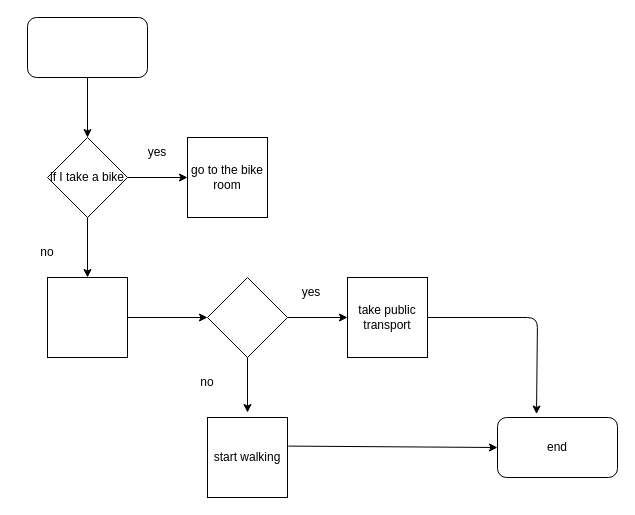
Image size: 635x515. Some labels were removed from this diagram. Here are the shapes that lost their labels. From the top down, the centre of each, then its label:
the point at 87,47: home
the point at 87,317: leave the house
the point at 247,317: if I take thansport
